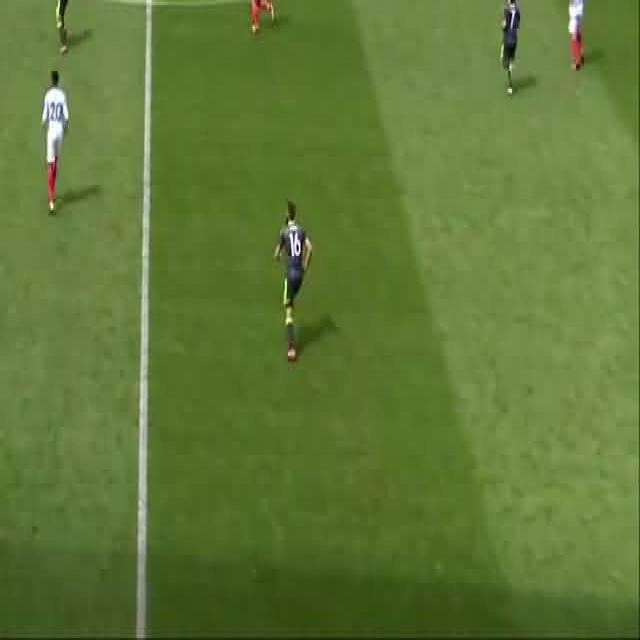player-white: (274, 201, 312, 363), (40, 69, 68, 212), (500, 0, 520, 96), (563, 0, 590, 70), (243, 0, 275, 36), (50, 0, 70, 55)
